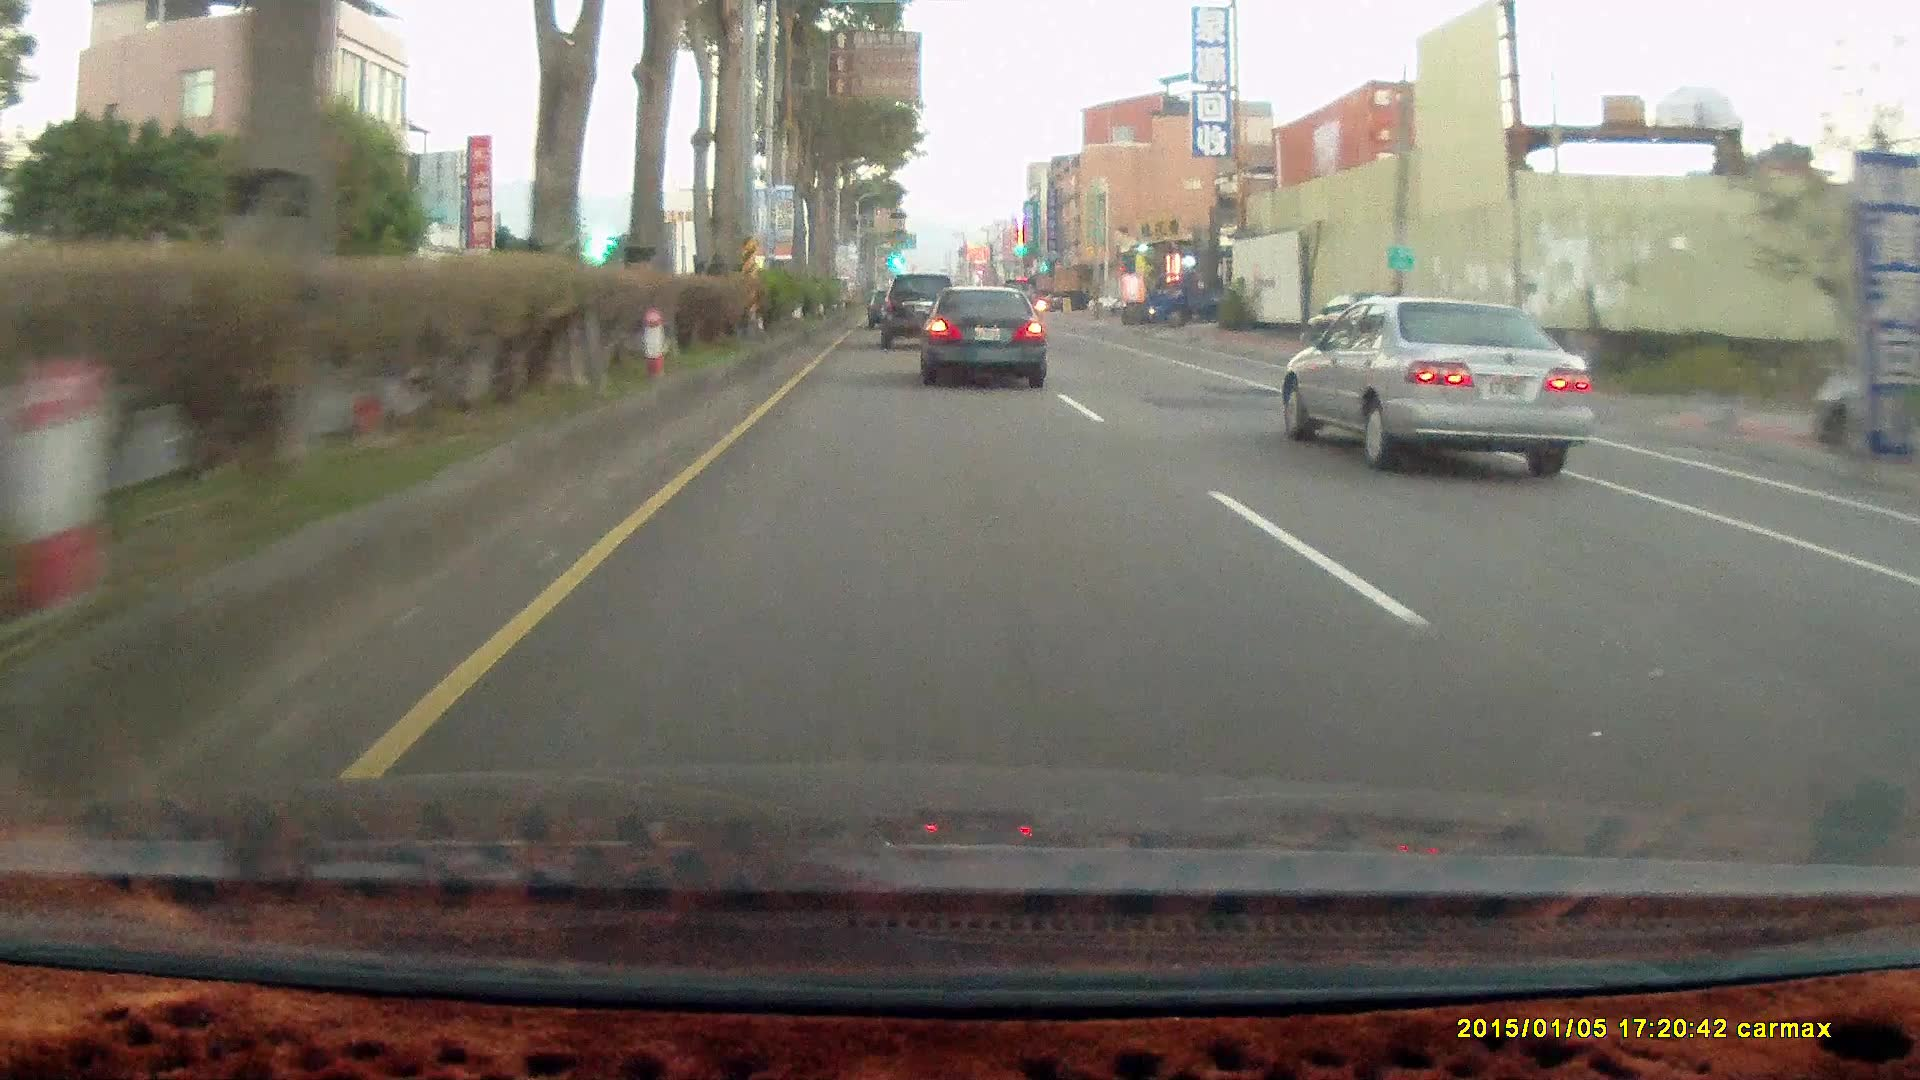vehicle: (1280, 293, 1604, 473), (1282, 293, 1594, 473), (914, 284, 1046, 386), (923, 285, 1052, 389), (880, 273, 960, 348), (880, 273, 960, 347), (1143, 266, 1230, 331), (1142, 266, 1229, 328), (1048, 287, 1091, 309)
